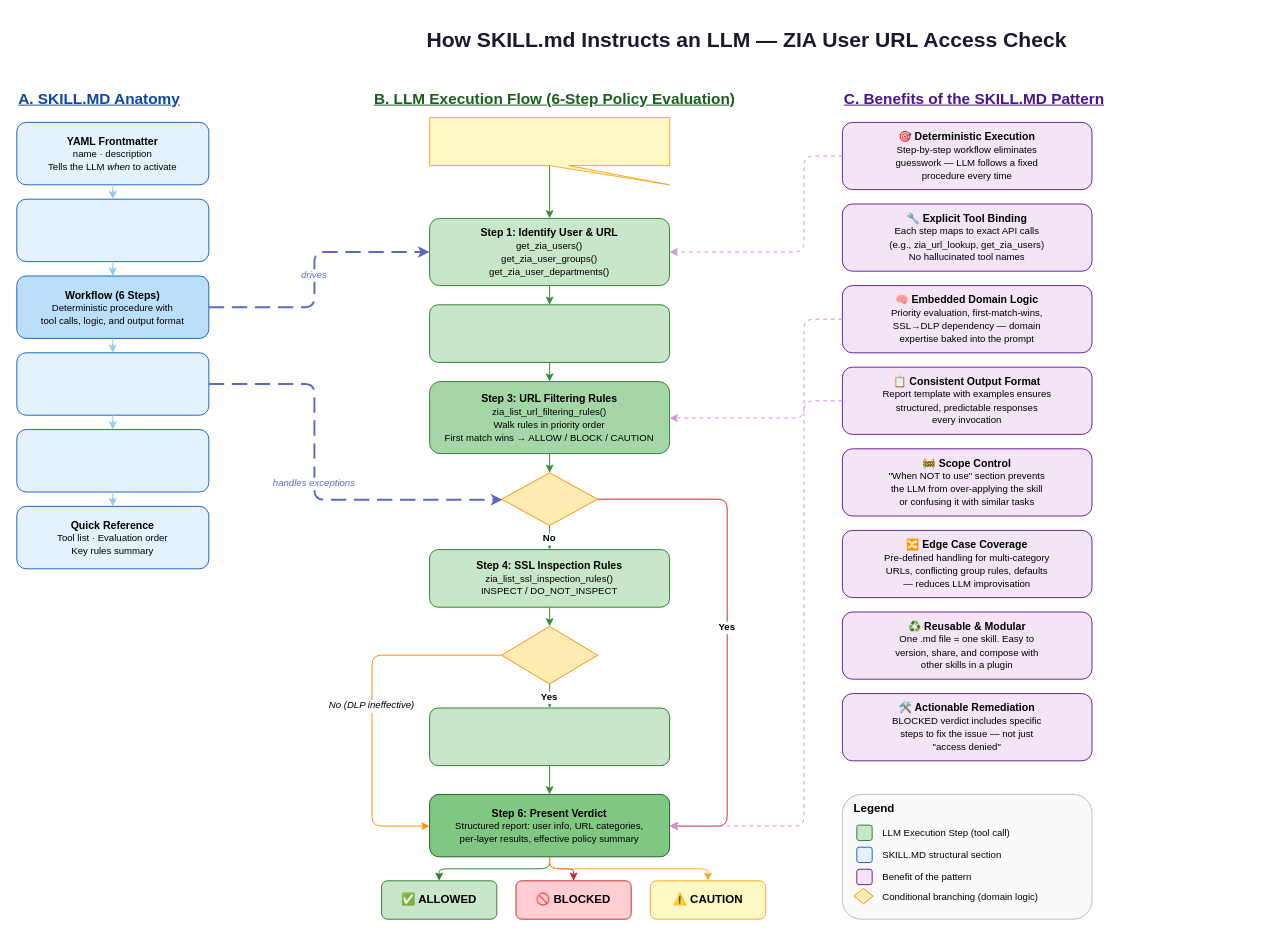
This 1282x936 diagram has some shape labels left out. The centre of each missing label's shape, as x and y in pixels:
Admin asks: "Can user X access site Y?": pixel 549 151
Blocked?: pixel 549 499
Edge Cases Multi-category, defaults, conflicting groups, caution: pixel 112 383
Keywords Section Semantic triggers for matching user intent to this skill: pixel 112 230
Scope Guard "When NOT to use" — prevents misapplication of the skill: pixel 112 460
SSL Inspected?: pixel 549 654
Step 2: Classify URL zia_url_lookup(urls=["..."]) → categories, security alerts: pixel 549 333
Step 5: DLP Rules zia_list_web_dlp_rules() Scan uploads/downloads: pixel 549 736
